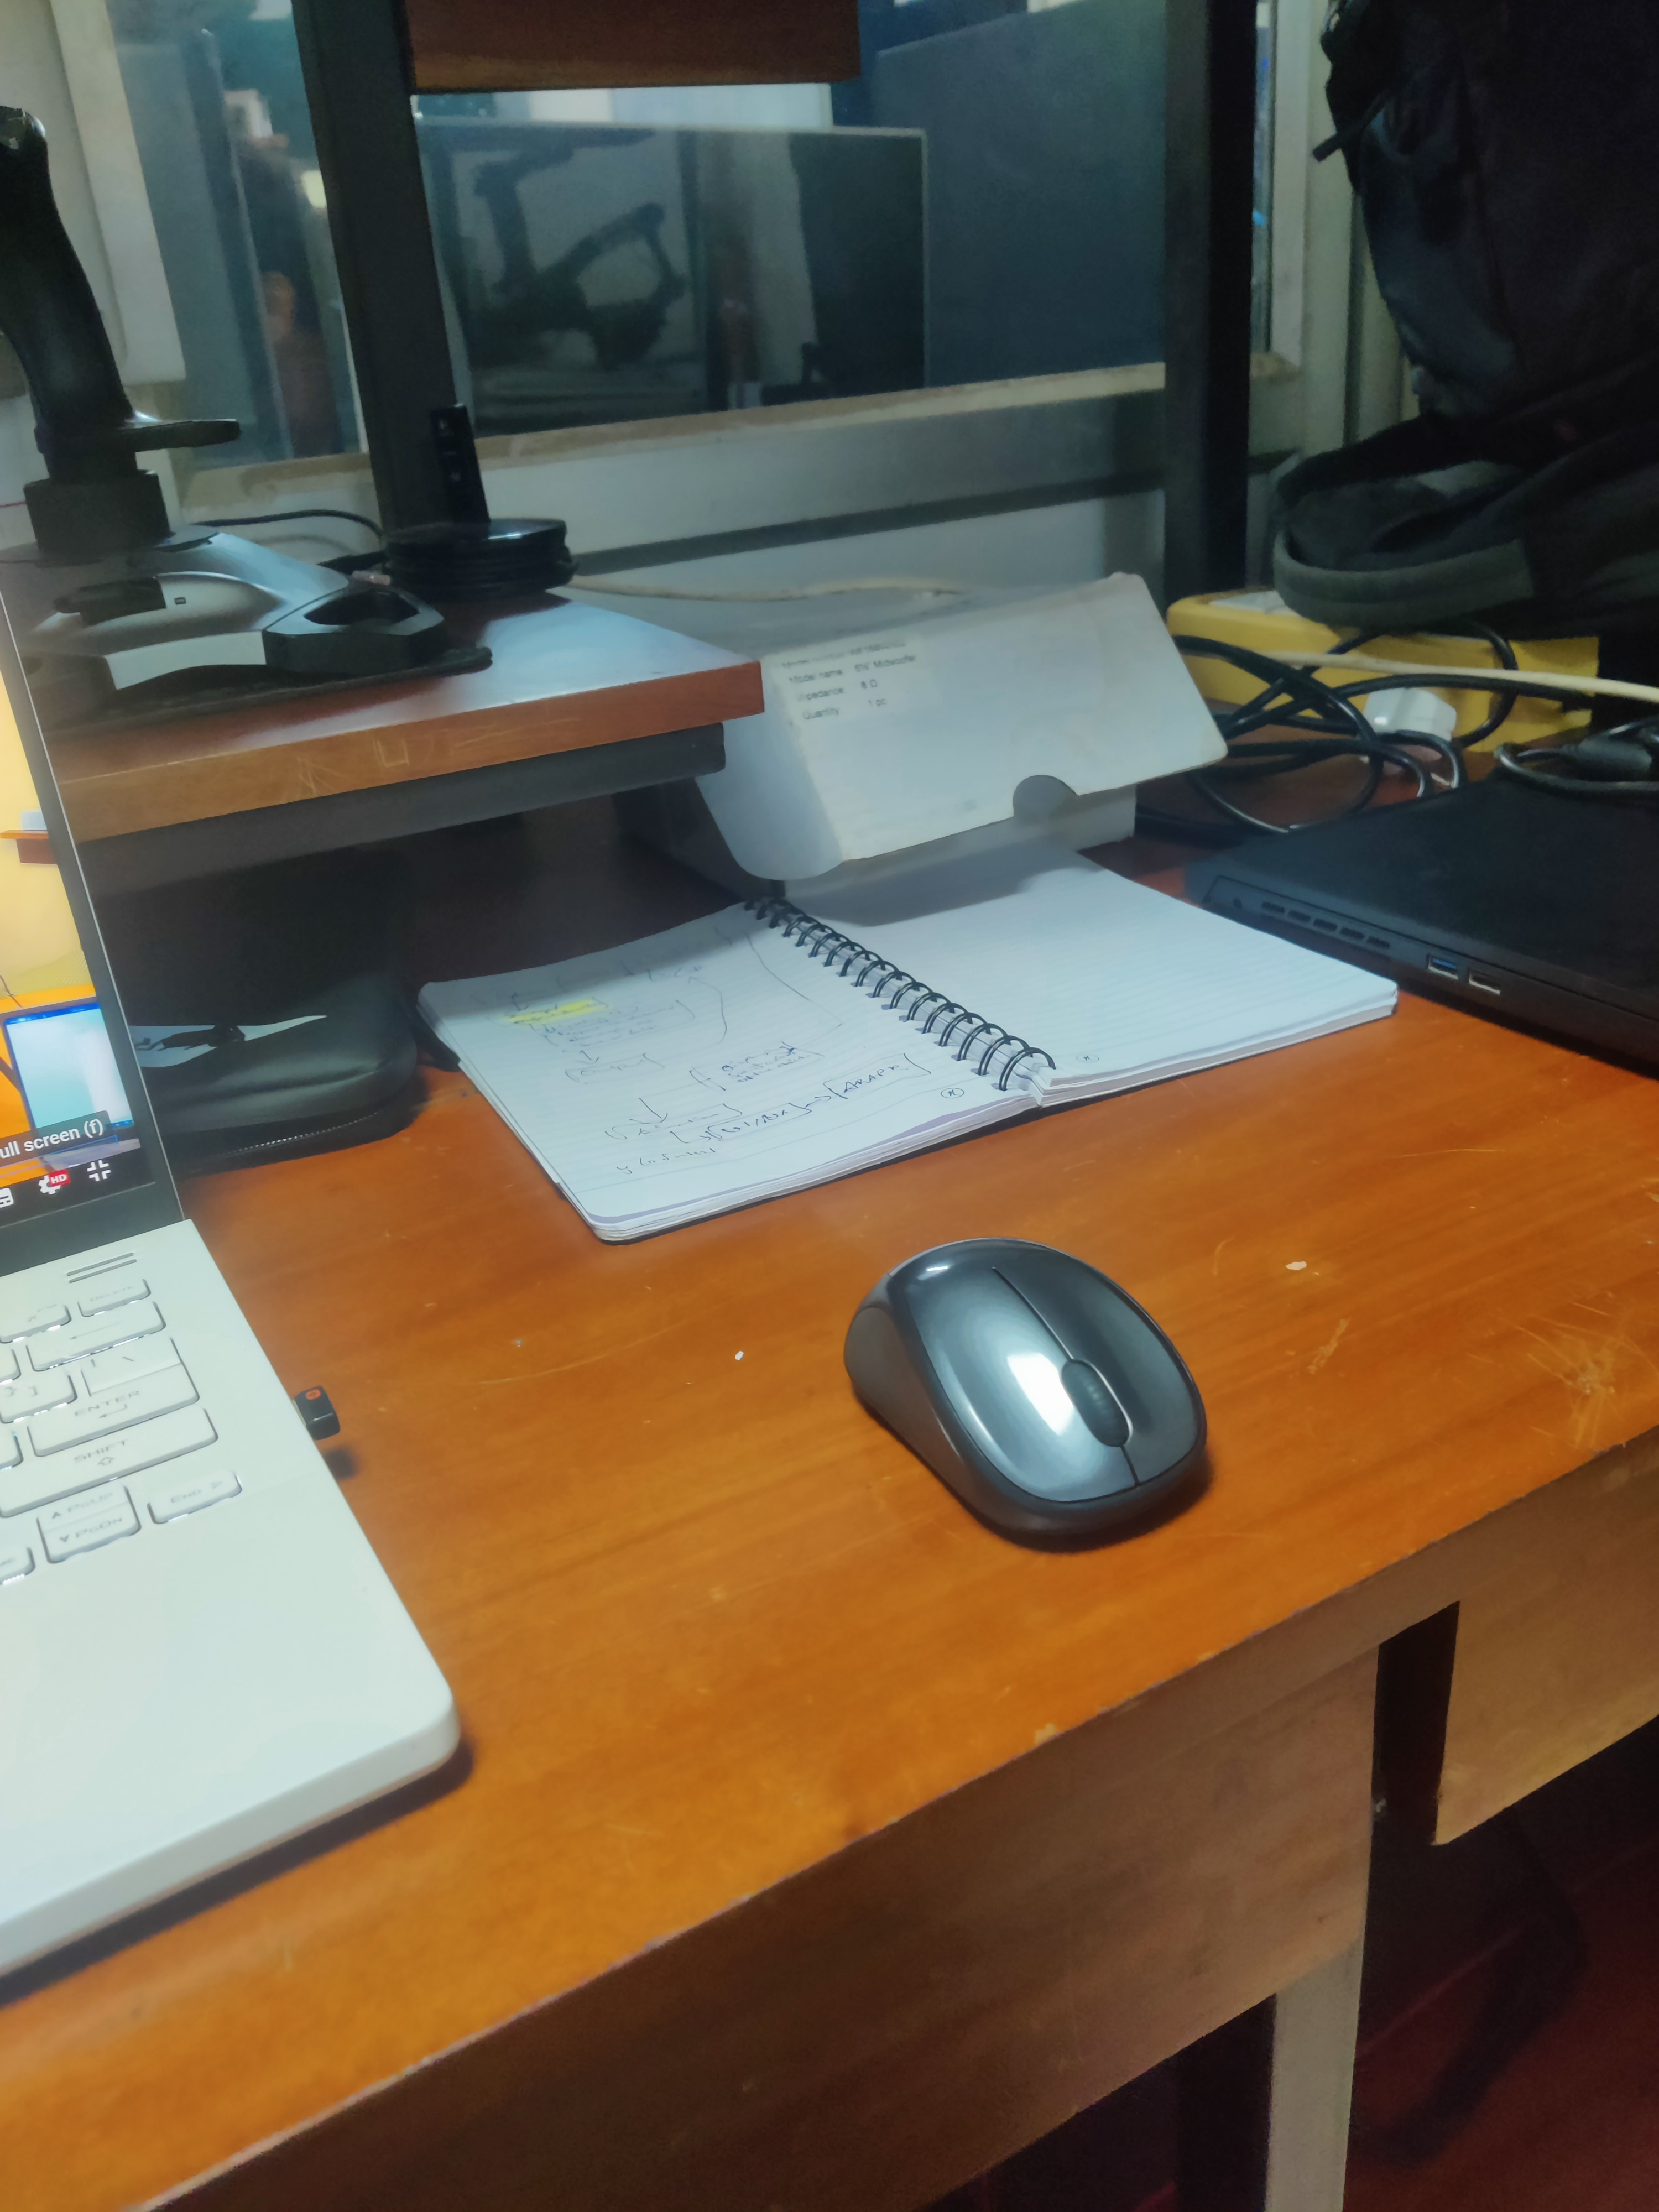logitechMouse: (819, 1223, 1243, 1562)
